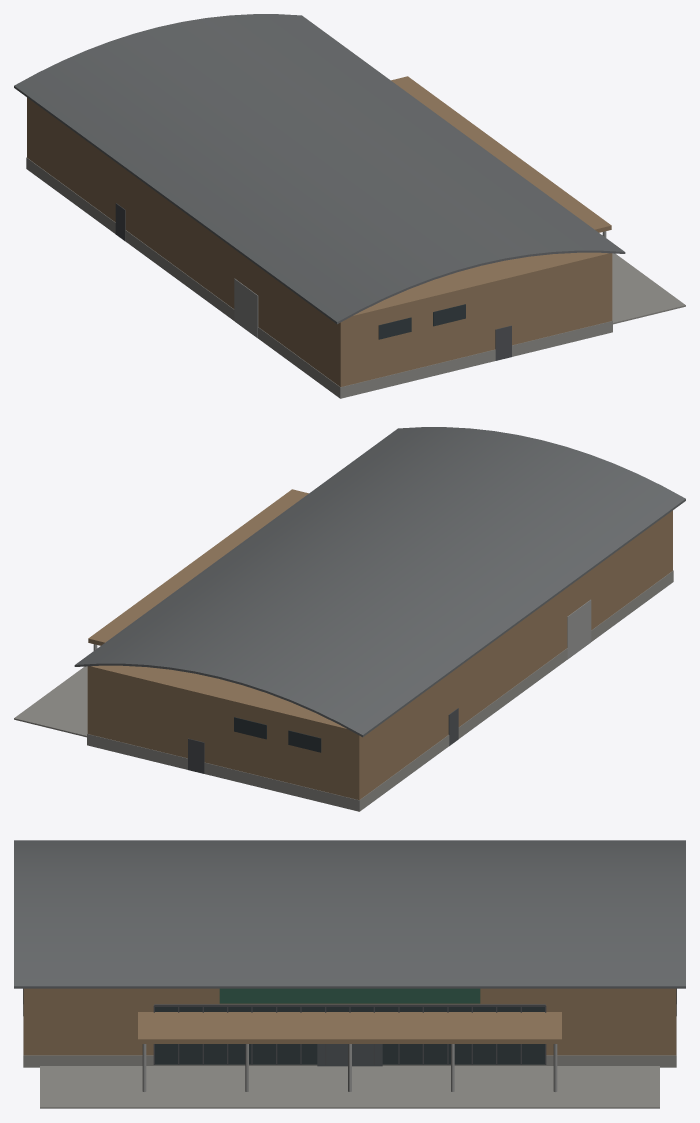
File: SM_Prop_services_hall_1.glb
The picture shows the model from 3 angles, top to bottom: view 1: azimuth 30°, elevation 25°; view 2: azimuth 150°, elevation 25°; view 3: azimuth 270°, elevation 25°; orthographic projection. The views are drawn at different scales.
Visible parts, largest first — view 1: SM_Prop_services_hall_1; view 2: SM_Prop_services_hall_1; view 3: SM_Prop_services_hall_1.
Part boxes in pixels (x1,y1,x2,y2): SM_Prop_services_hall_1: (14,14,685,398); SM_Prop_services_hall_1: (14,427,685,811); SM_Prop_services_hall_1: (14,840,685,1108).
Bounding box in the file's own units: 26.6 × 7.4 × 41.2.
